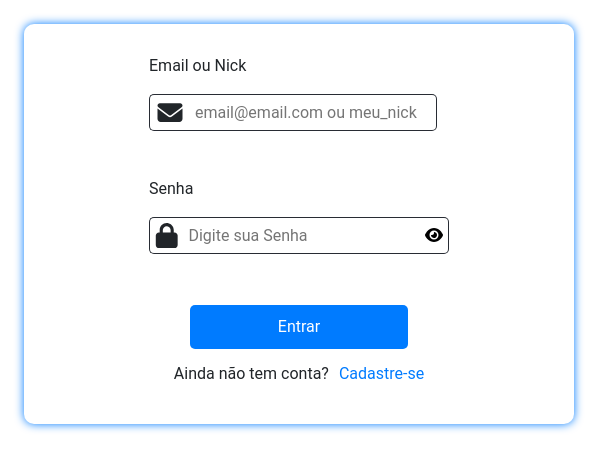
Test: Testes de Login Page › Testes do tooglePassword, verifica se funciona corretamente
The width and height of the screenshot is (599, 449).
Type "123456" into the password field with placeholder "Digite sua Senha" at (302, 236), box [183,217,420,254]
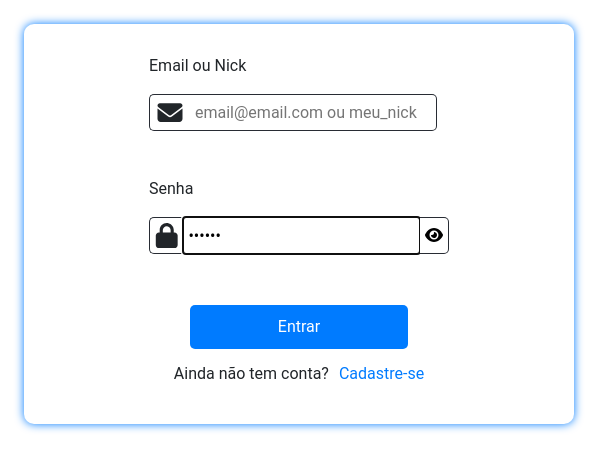
Click the 1st button at (434, 236), box [420,217,449,254]
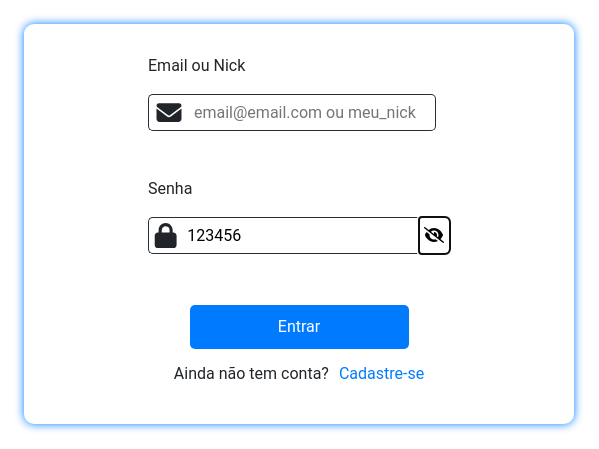
Expected: the field with placeholder "Digite sua Senha" shows its text, [182,217,419,254]
